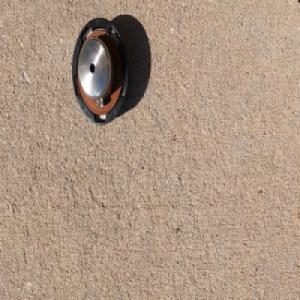FuelCap: (69, 15, 130, 129)
